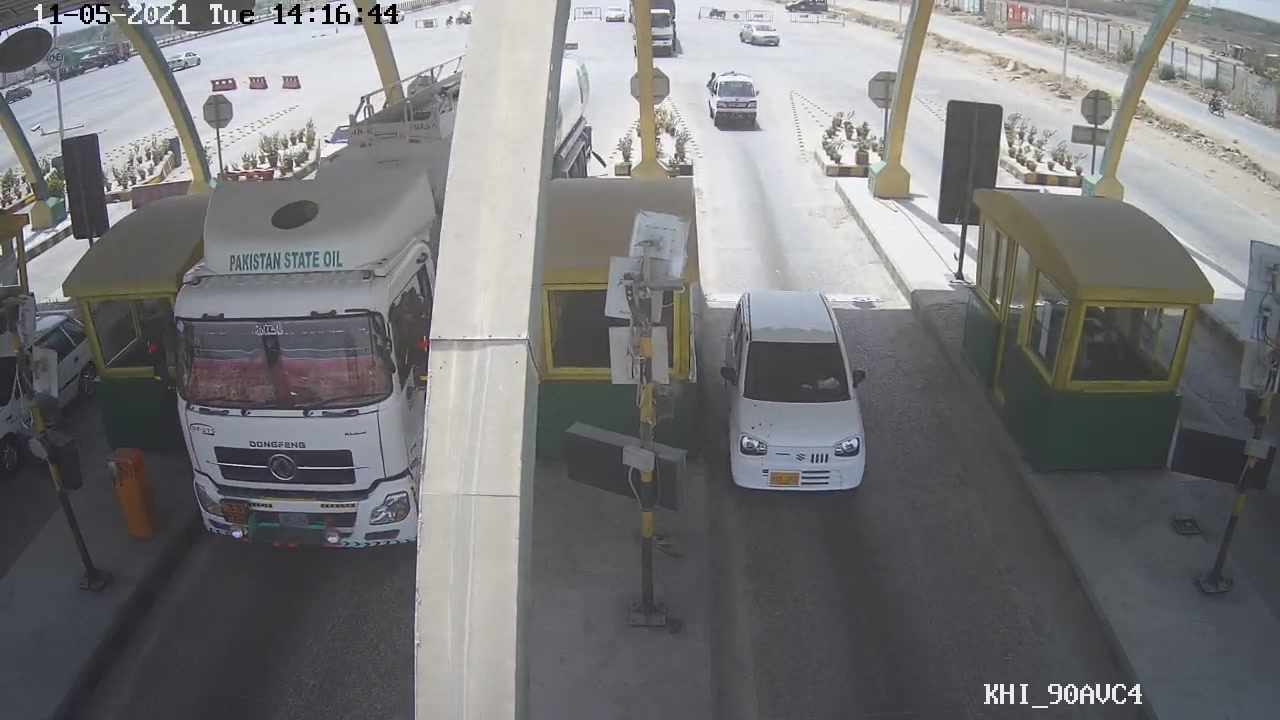F1: (715, 287, 870, 514)
